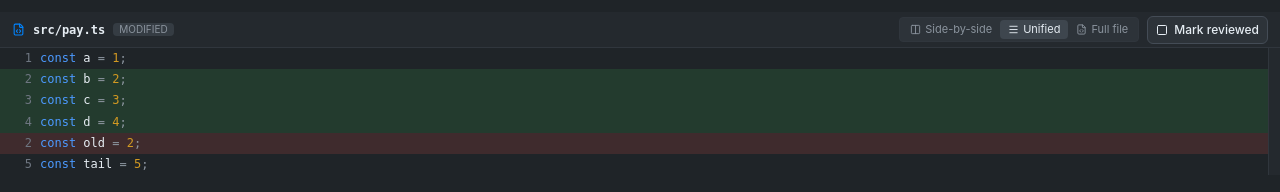
Scenario: ReviewDiffPane › full file › reports why the fetch failed instead of a single flat message
Click the button "Full file": (1102, 30) [1068,20,1136,39]
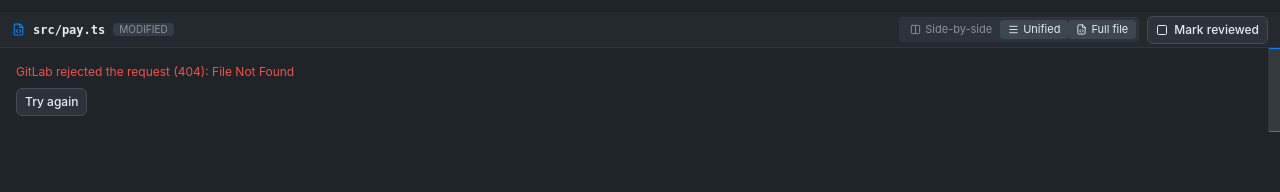
expect the text "404" is shown: met, box [16,64,294,79]
expect the text "File Not Found" is shown: met, box [16,64,294,79]
